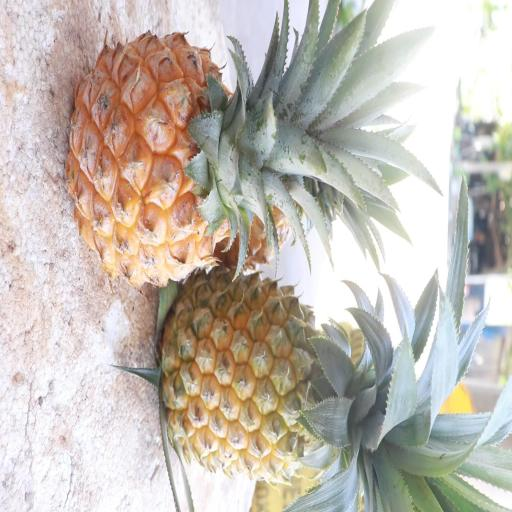Pineapple - v8 v1: (64, 19, 332, 290), (156, 259, 402, 488)
